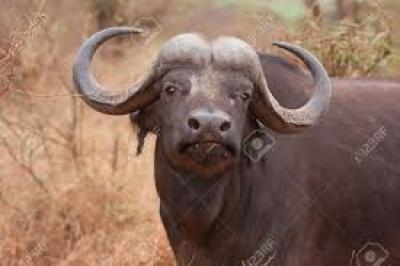buffalo: (74, 26, 399, 265)
